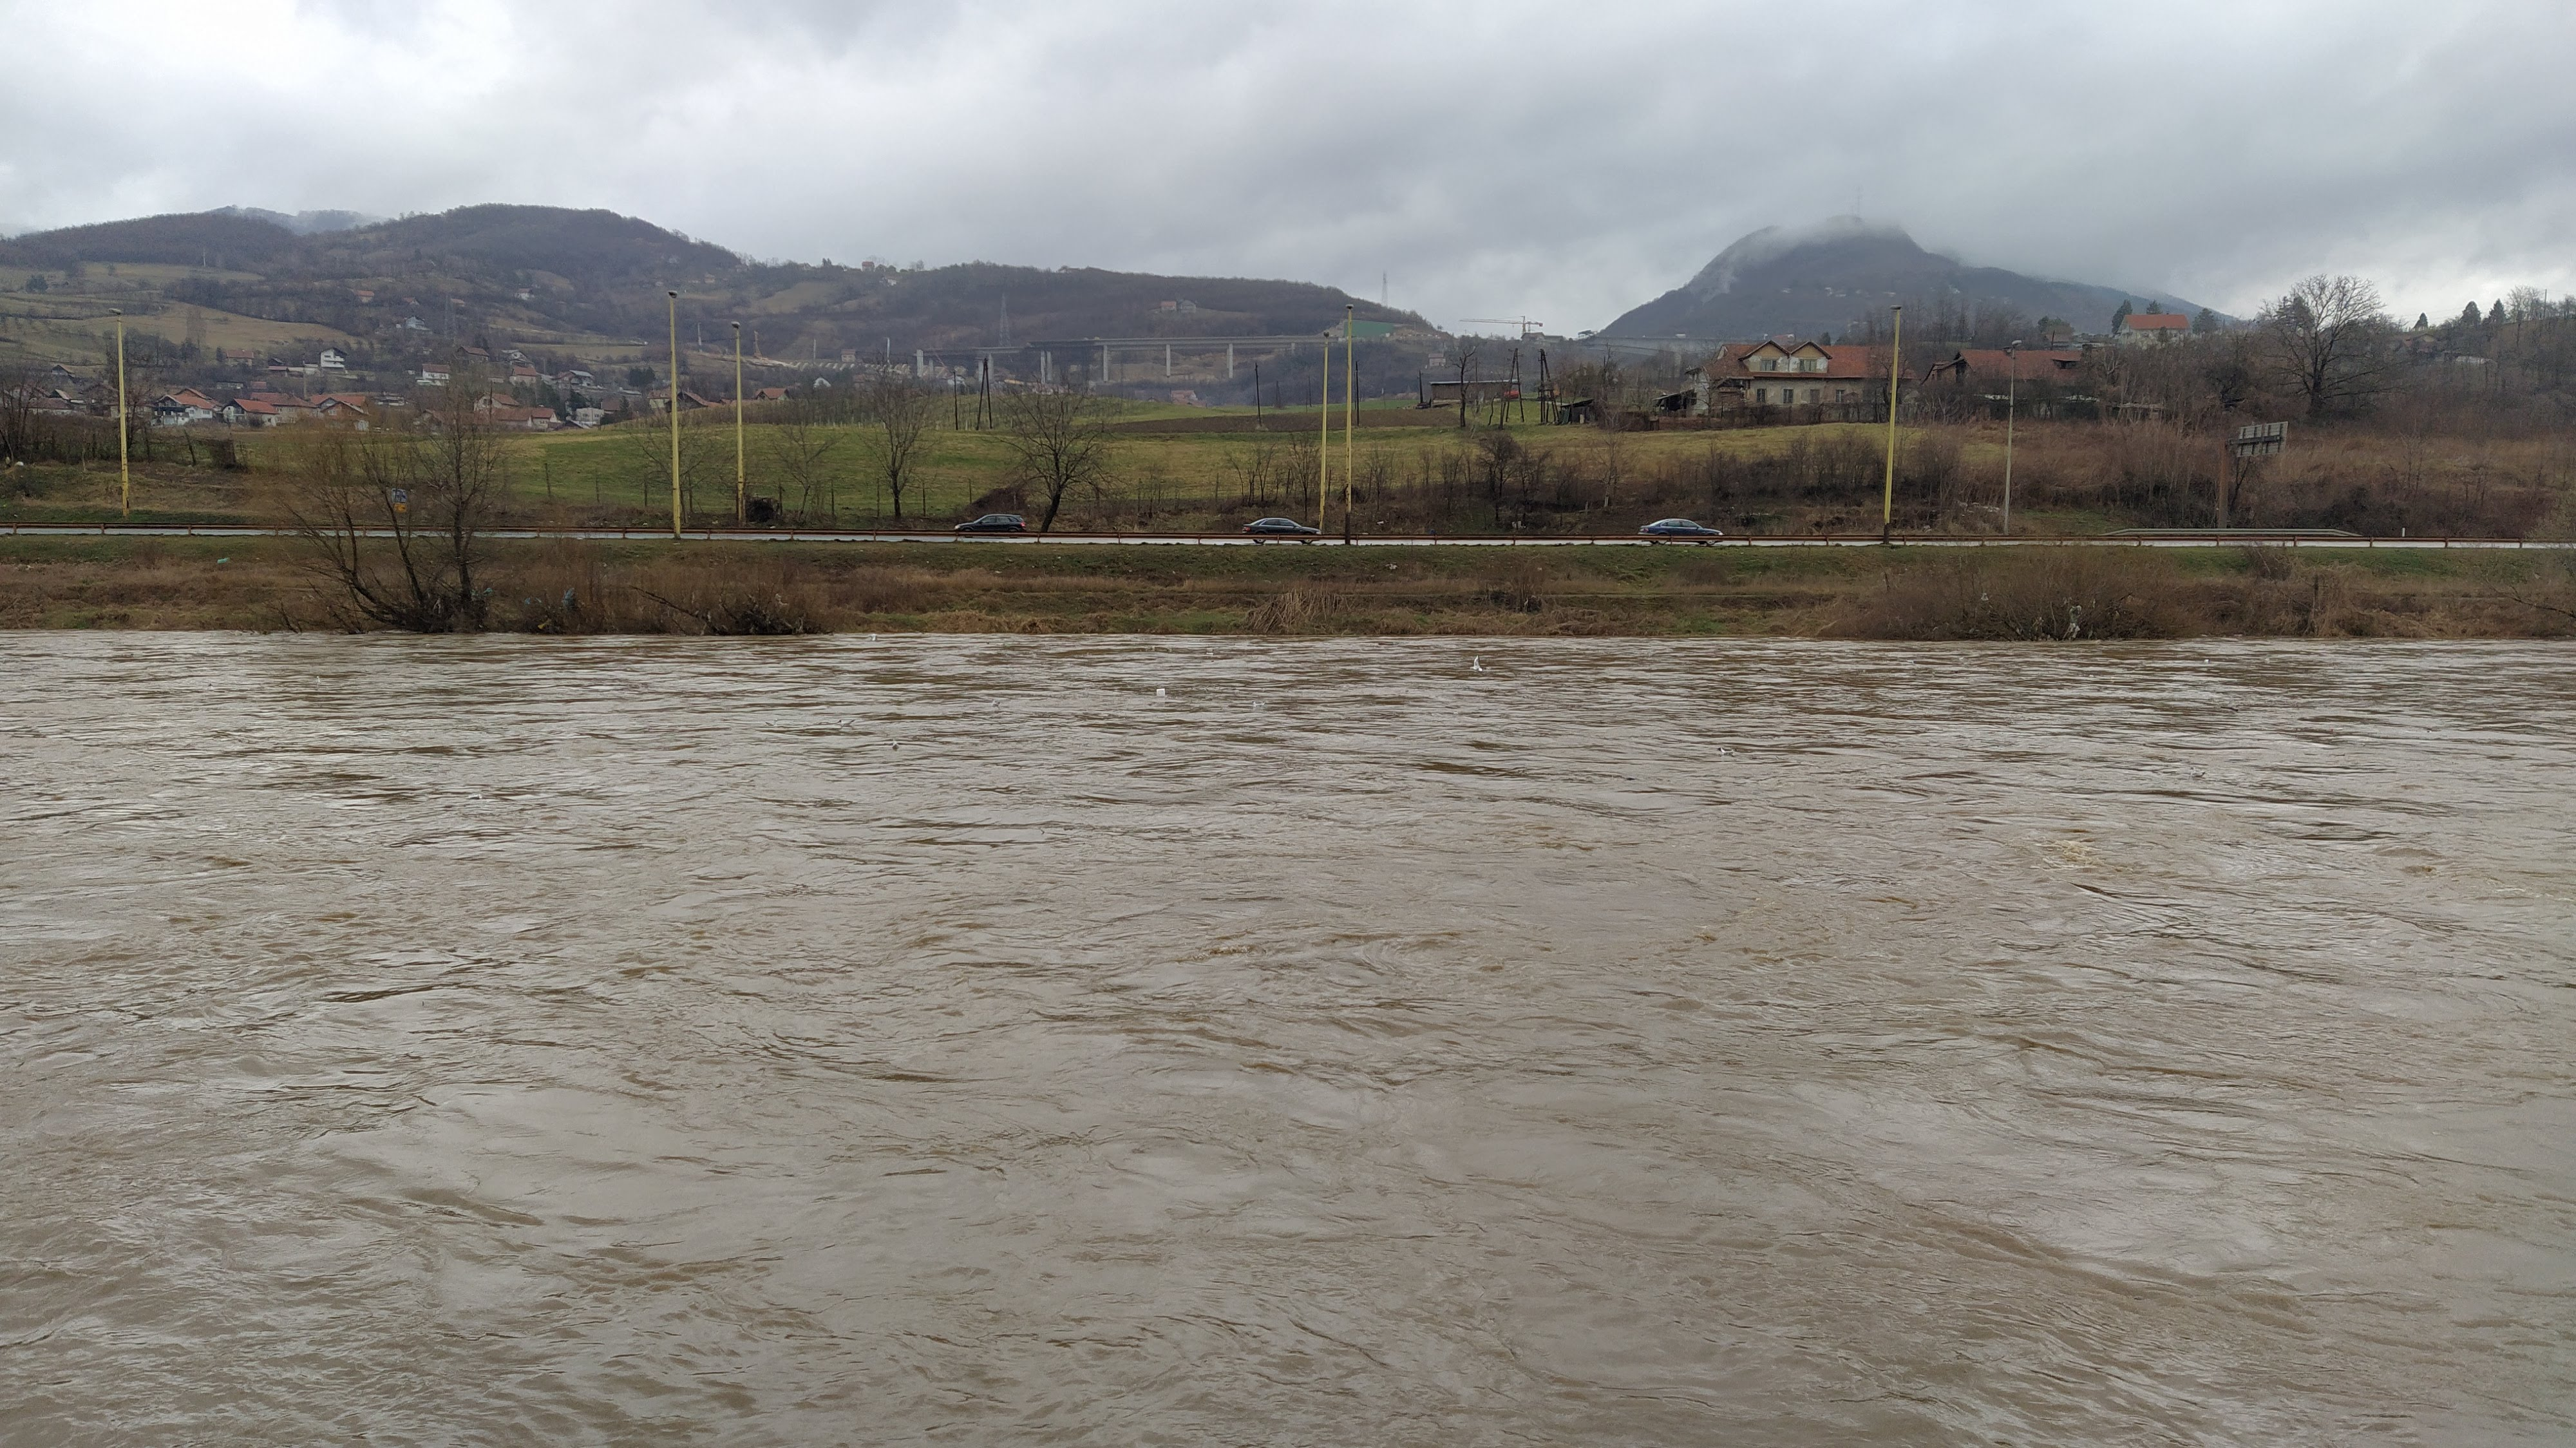Plastic Bottle: (467, 793, 481, 798), (1254, 701, 1267, 706)
